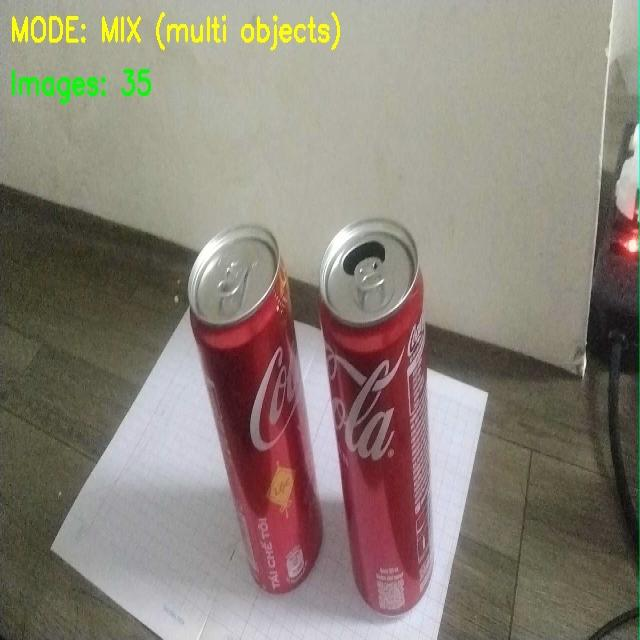Coca: (175, 210, 315, 630)
Coca_open: (319, 195, 533, 639)
